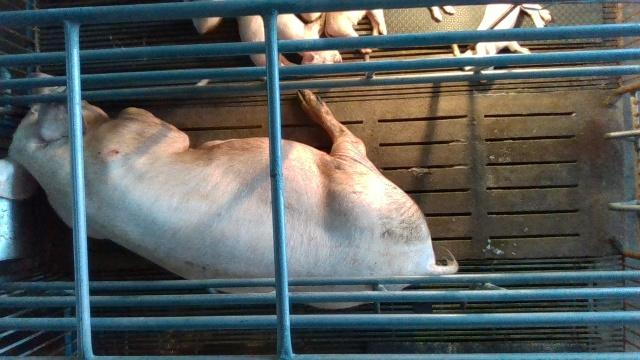piglet: (453, 4, 551, 83), (277, 14, 342, 64), (324, 7, 388, 54), (238, 15, 296, 66)
sow-sleep: (0, 67, 459, 308)
